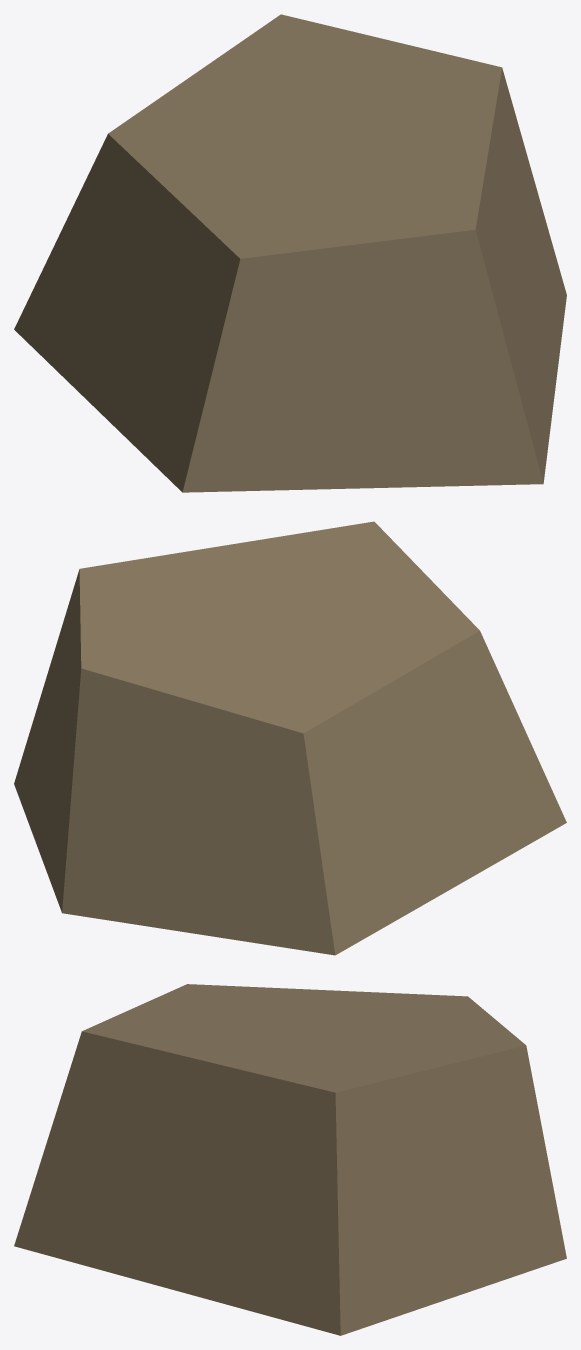
The model's file is TB_D_Env_StoneB_C.FBX.
3 renders of one model, top to bottom at view 1: azimuth 30°, elevation 25°; view 2: azimuth 150°, elevation 25°; view 3: azimuth 270°, elevation 25°, orthographic. The views are drawn at different scales.
Parts seen in each view (by area): view 1: TB_D_Env_StoneB_C; view 2: TB_D_Env_StoneB_C; view 3: TB_D_Env_StoneB_C.
Part boxes in pixels (x1,y1,x2,y2): TB_D_Env_StoneB_C: (14, 14, 566, 492); TB_D_Env_StoneB_C: (14, 521, 566, 955); TB_D_Env_StoneB_C: (14, 984, 566, 1335).
Bounding box in the file's own units: 0.3265 × 0.1567 × 0.3663.
